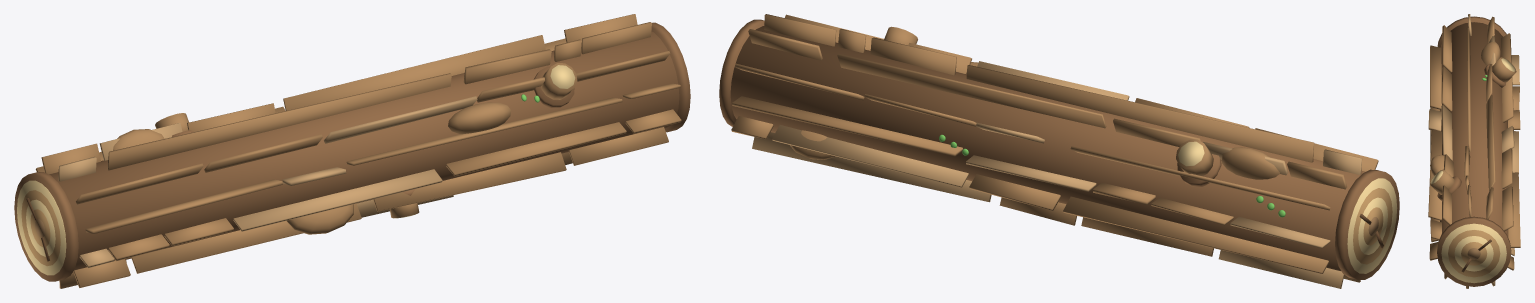
File: rolling_log.glb
3 views of the same model, side by side, from view 1: azimuth 30°, elevation 25°; view 2: azimuth 150°, elevation 25°; view 3: azimuth 270°, elevation 25° (orthographic). The views are drawn at different scales.
Visible parts, largest first — view 1: Rolling_Log_Sculpted; view 2: Rolling_Log_Sculpted; view 3: Rolling_Log_Sculpted.
Boxes of the visible parts, x1=… form: Rolling_Log_Sculpted: x1=14, y1=14, x2=690, y2=288; Rolling_Log_Sculpted: x1=719, y1=14, x2=1399, y2=288; Rolling_Log_Sculpted: x1=1428, y1=14, x2=1520, y2=288.
Bounding box in the file's own units: 9.6 × 1.92 × 1.83.
